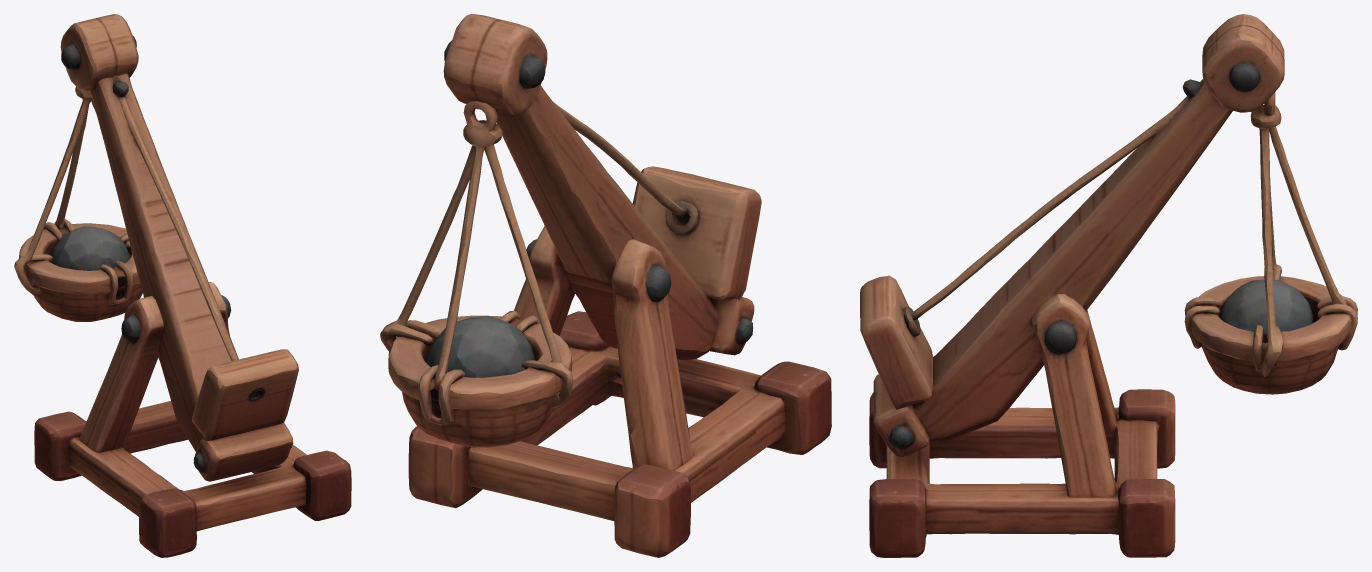
Rendered from lg-catapult.glb.
The picture shows the model from 3 angles, left to right: view 1: azimuth 30°, elevation 25°; view 2: azimuth 150°, elevation 25°; view 3: azimuth 270°, elevation 25°; orthographic projection. The views are drawn at different scales.
Parts seen in each view (by area): view 1: geometry_0; view 2: geometry_0; view 3: geometry_0.
Part boxes in pixels (<box>): geometry_0: <box>14,14,351,557</box>; geometry_0: <box>380,14,831,557</box>; geometry_0: <box>860,14,1357,557</box>.
Size of the model in its own units: 0.5045 by 1 by 0.9398.
1 material, 1 textured.
